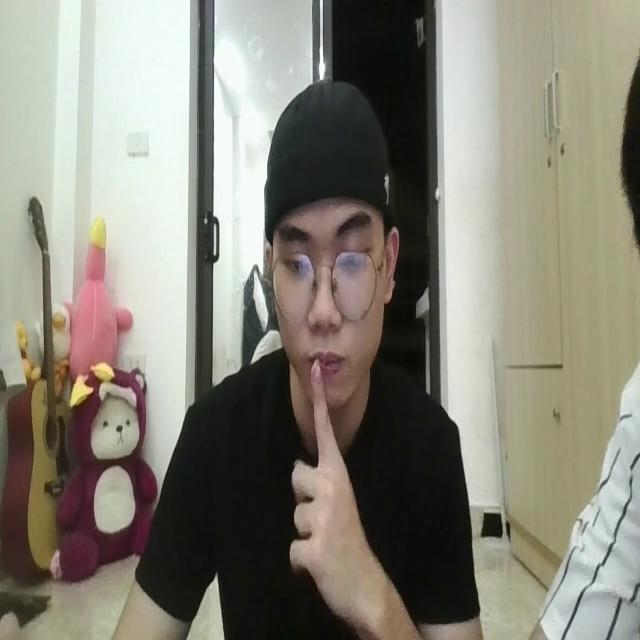student: (114, 77, 497, 640)
